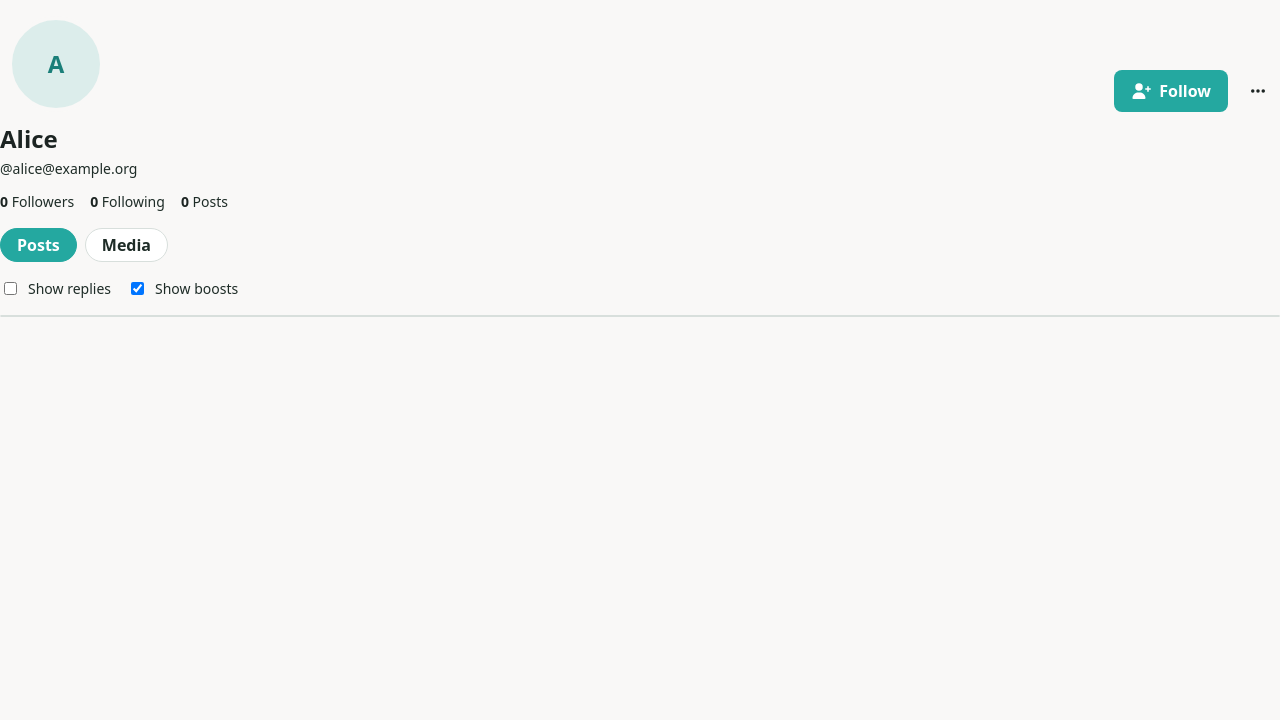
Test case: ProfilePage › creates a list from the picker and adds the account to it
Click the button with class "menu__trigger". click: (1258, 91)
box: [1236, 75, 1279, 107]
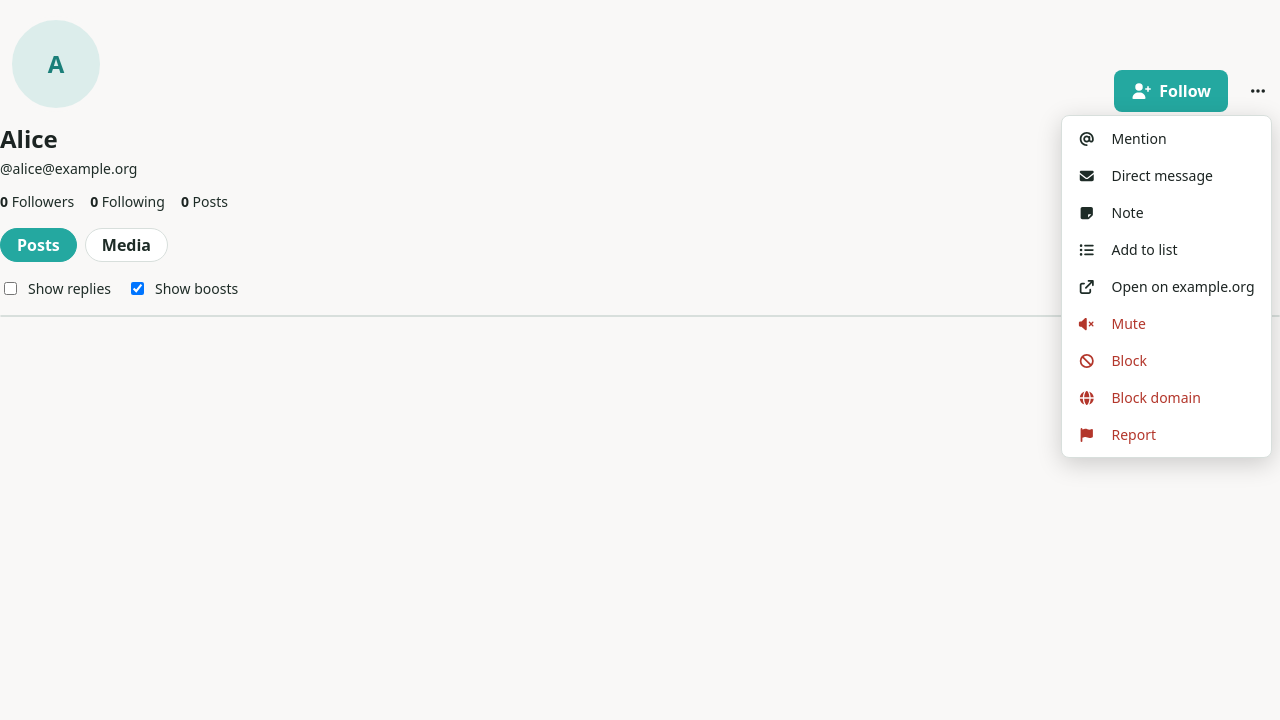
Click the menu item "Add to list". click: (1128, 250)
box: [1078, 240, 1178, 259]
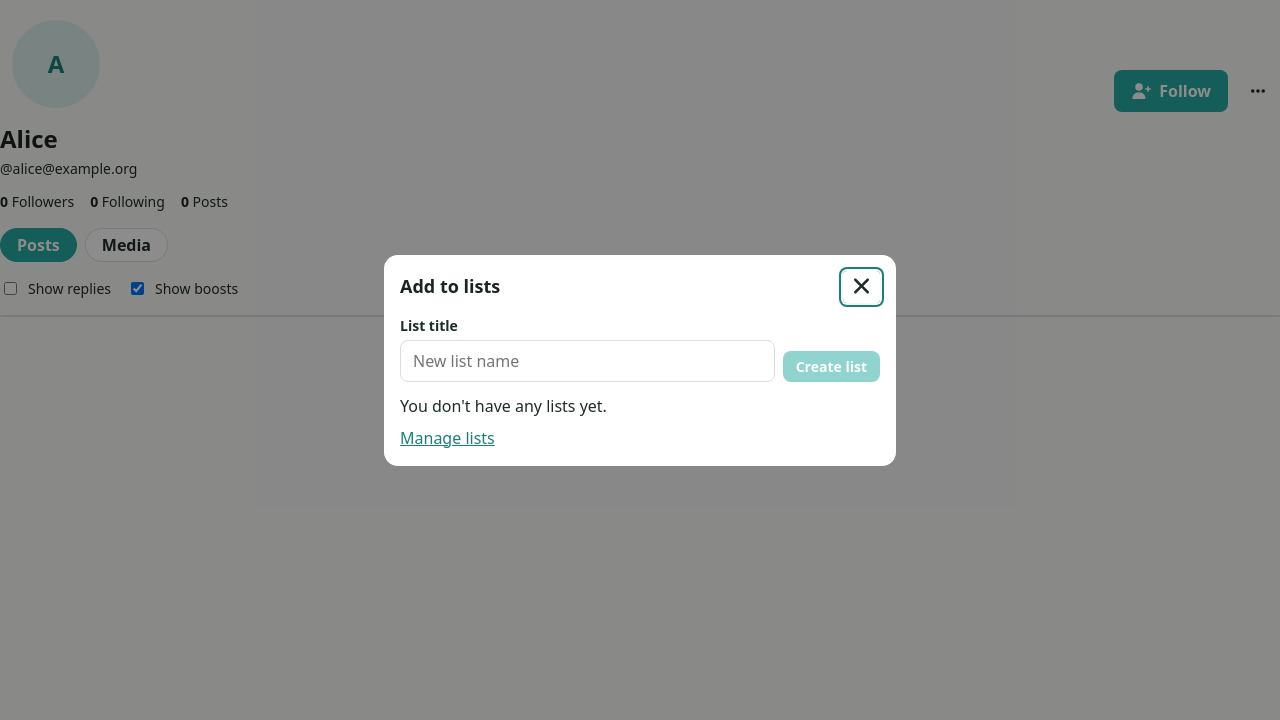
Type "Close friends" into the field with class "field__input". click: (587, 360)
box: [400, 340, 775, 382]
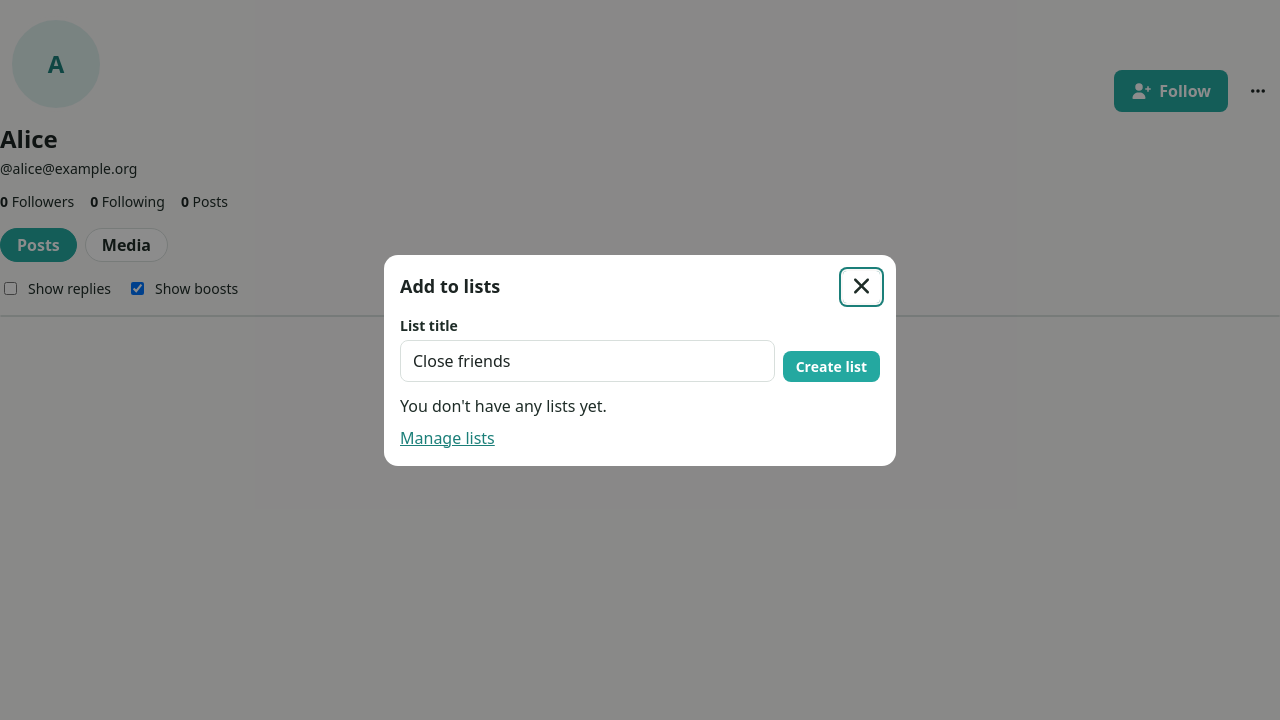
Click the button "Create list". click: (831, 366)
box: [783, 350, 880, 382]
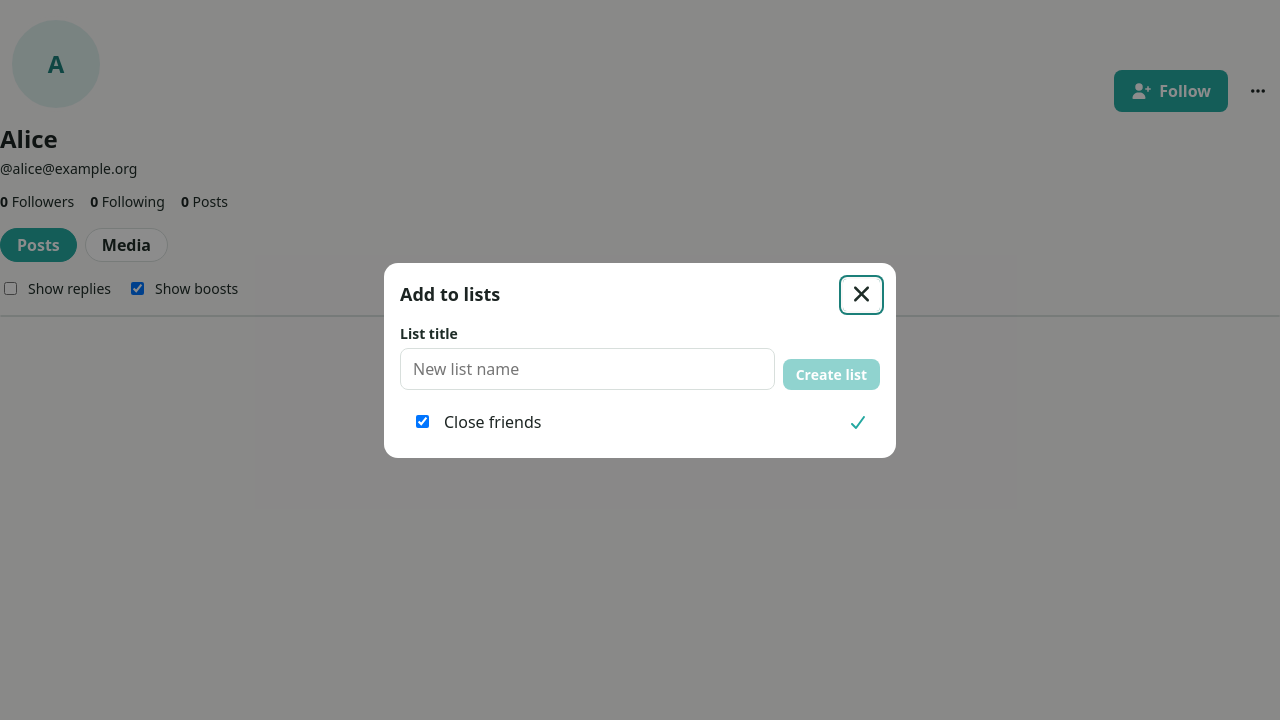
Expected: the checkbox labelled "Close friends" is checked, [416, 415, 429, 428]
Expected: the dialog with class "modal__panel" shows "Close friends", [444, 410, 541, 432]
